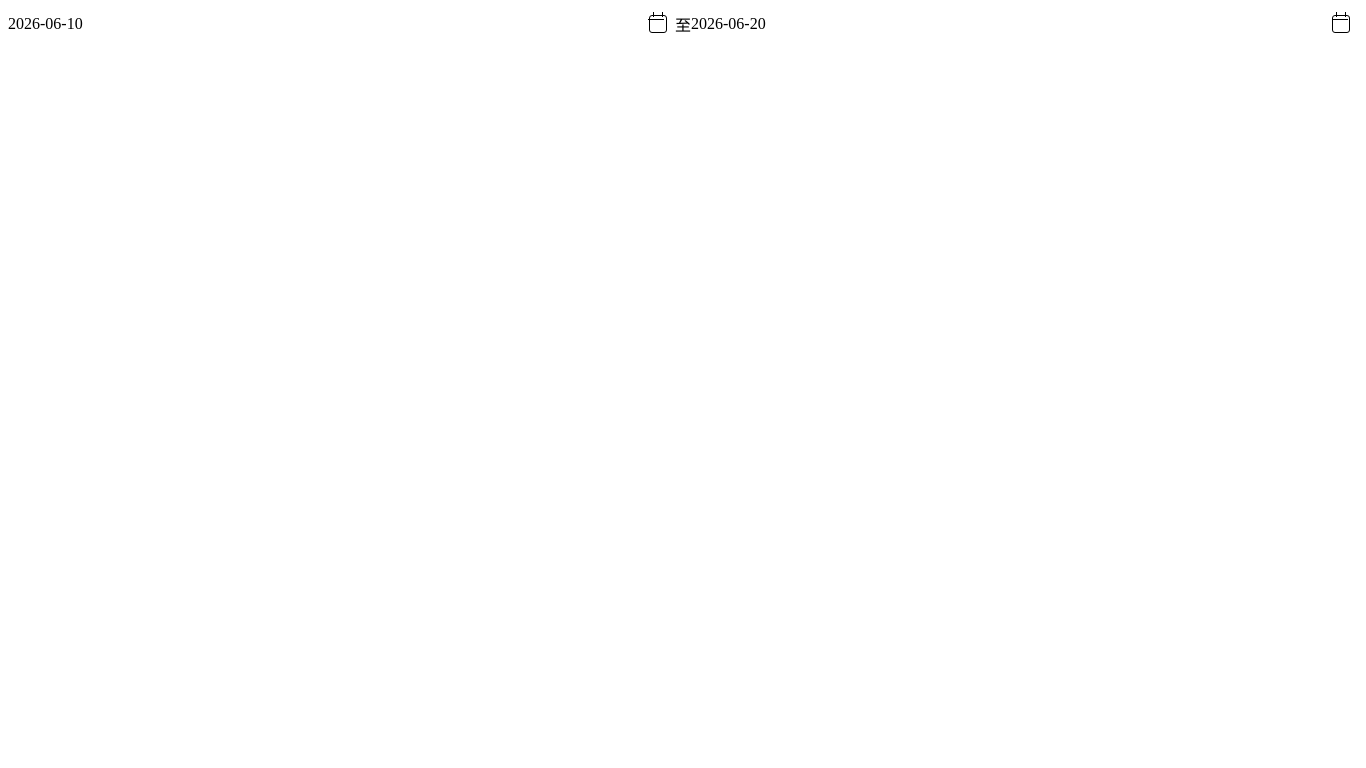
Scenario: DateRangePicker › 限制结束日期不能早于开始日期
Click the 2nd button with class "su-date-picker__trigger" at (1341, 24), box [1324,8,1358,40]
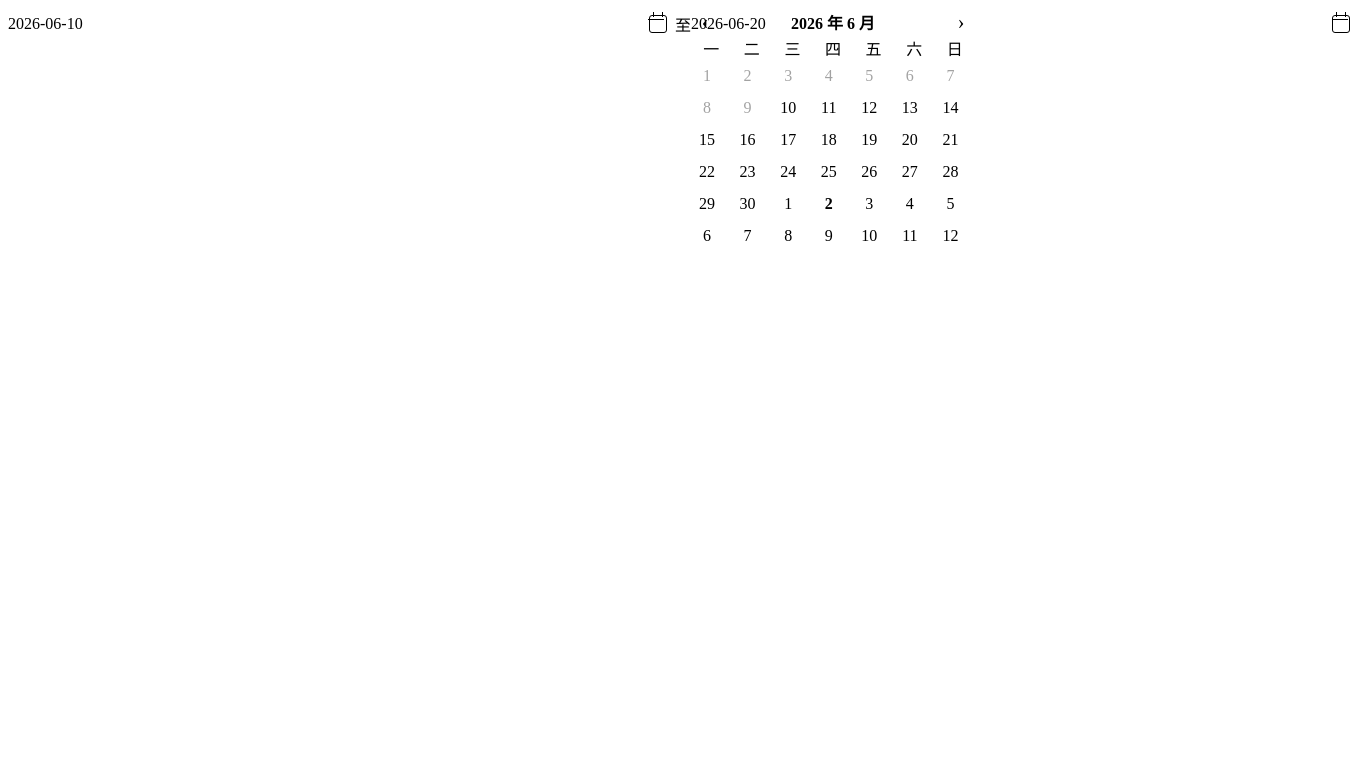
Expected: the 9th cell with class "su-date-picker__cell" is disabled, [732,92,764,124]
